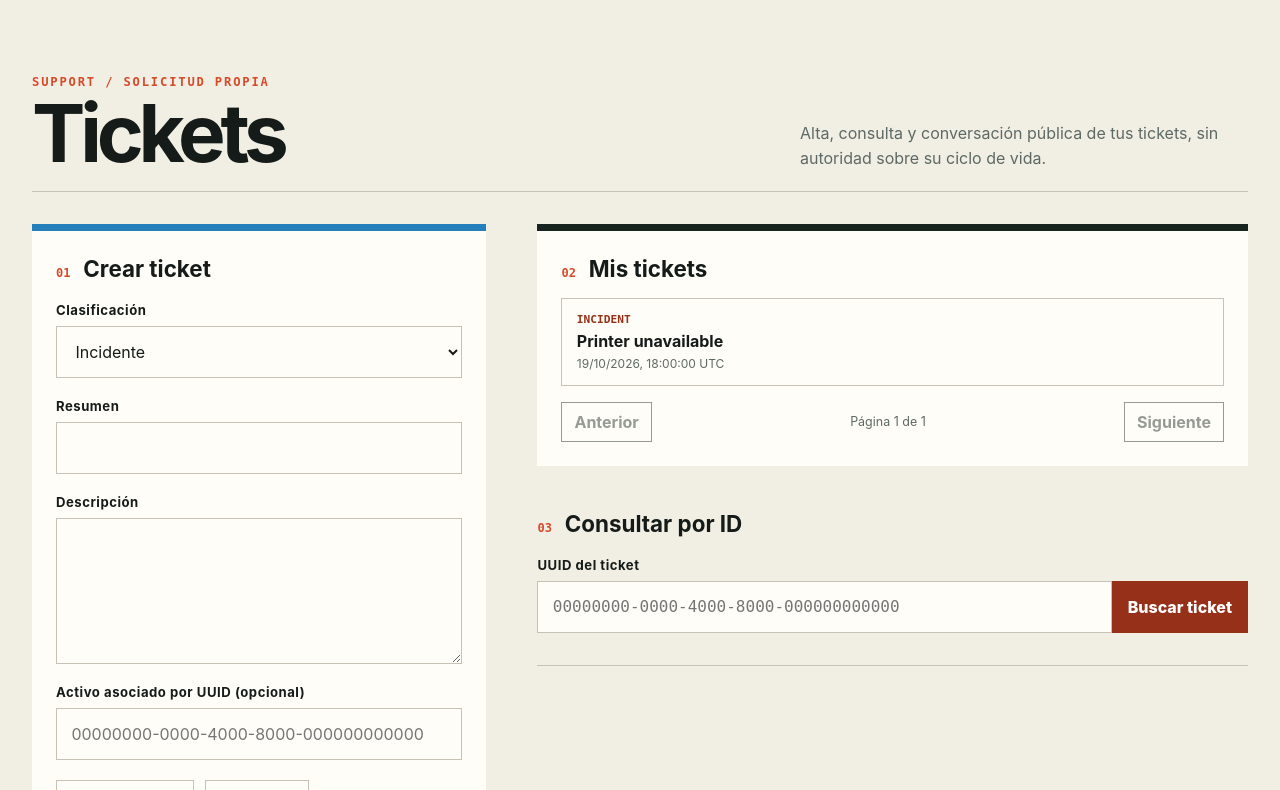
TicketWorkspace › lists, selects, and presents an owned ticket with its public conversation
Click the button "INCIDENT Printer unavailable 19/10/2026, 18:00:00 UTC" at (604, 319), box [562,298,1224,386]
(page scrolled)
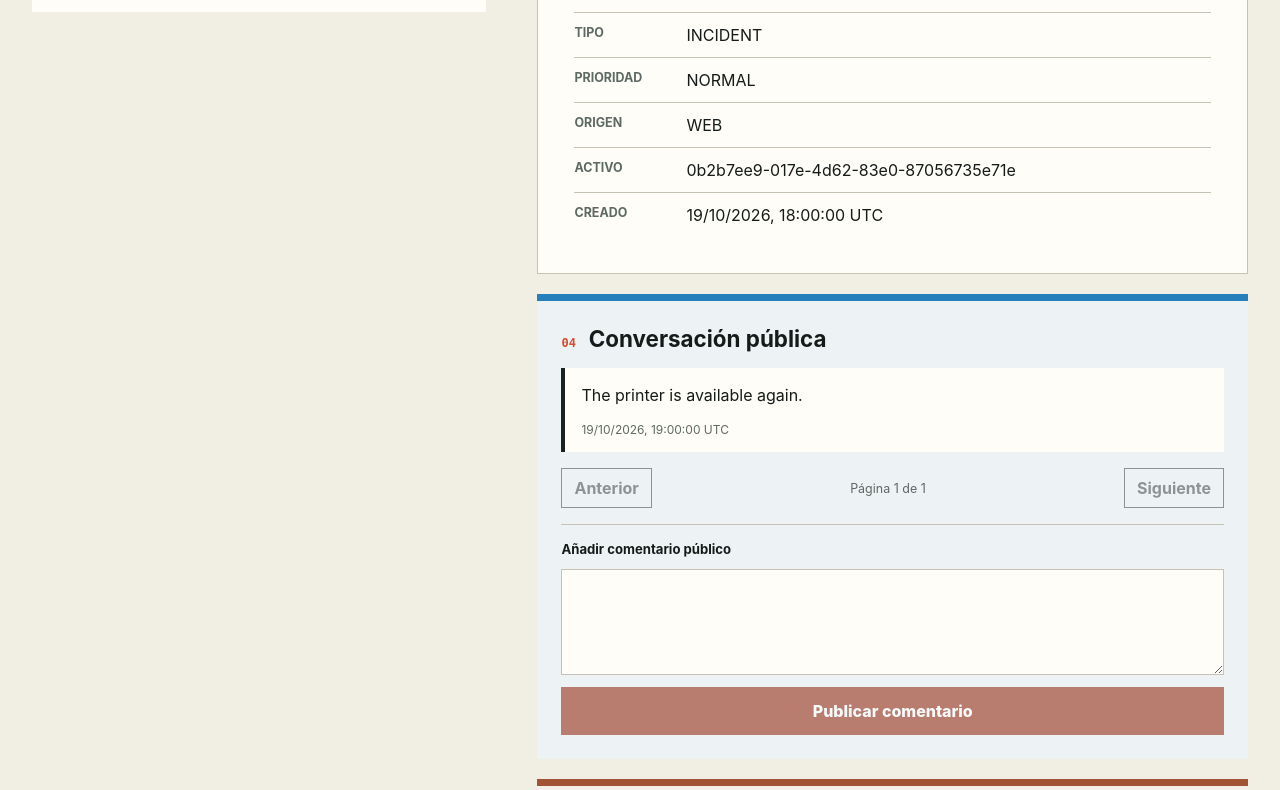
expect the text "The printer is available again." is shown: met, box [582,385,803,405]
